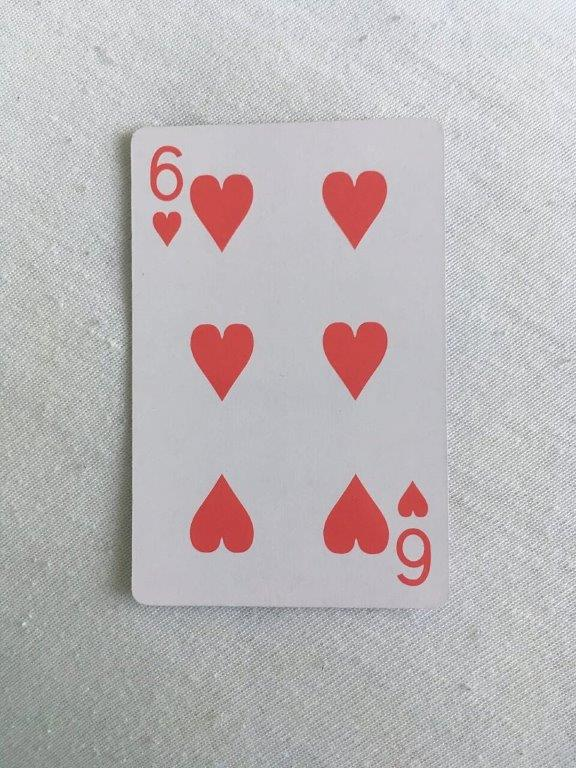6H: (126, 116, 453, 614)
